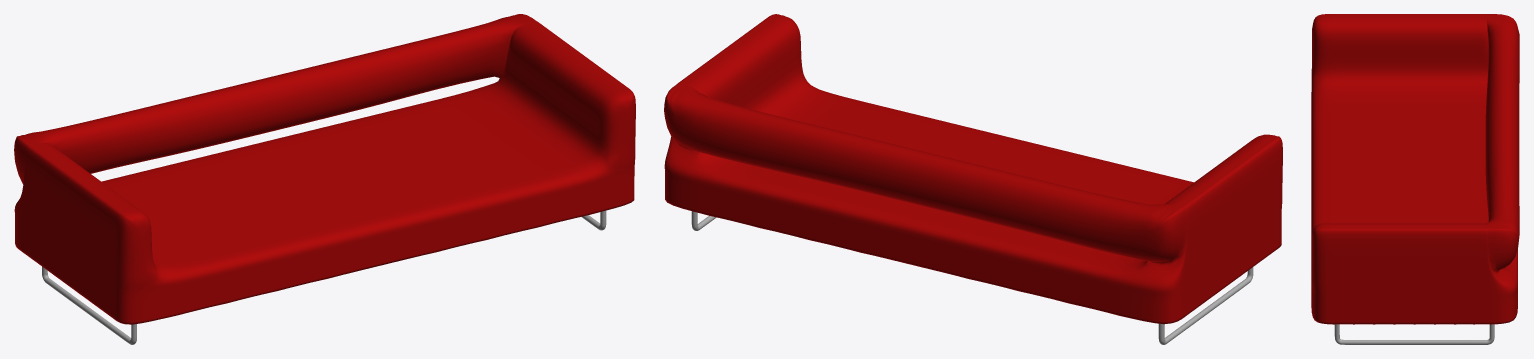
The model's file is BigCanap_V1.0.fbx.
The picture shows the model from 3 angles, left to right: view 1: azimuth 30°, elevation 25°; view 2: azimuth 150°, elevation 25°; view 3: azimuth 270°, elevation 25°; orthographic projection. The views are drawn at different scales.
Parts seen in each view (by area): view 1: pCube23; view 2: pCube23; view 3: pCube23.
Part boxes in pixels (x1=…): pCube23: x1=14, y1=14, x2=635, y2=344; pCube23: x1=664, y1=14, x2=1282, y2=344; pCube23: x1=1311, y1=14, x2=1519, y2=344.
Bounding box in the file's own units: 200 × 52.98 × 80.61.
